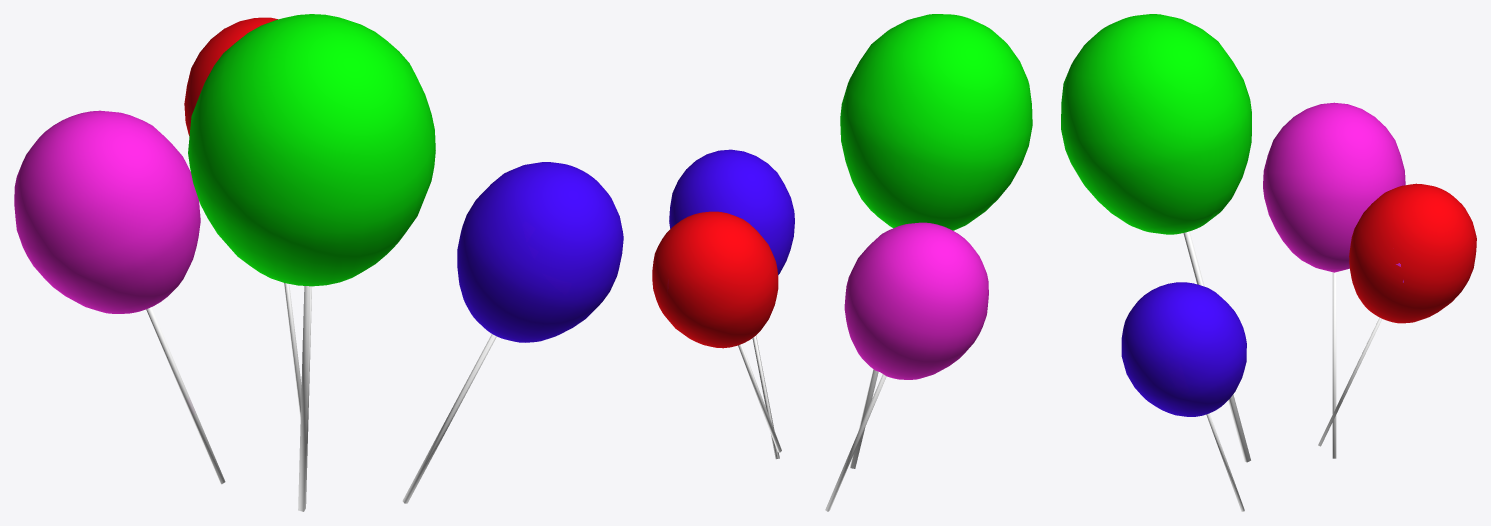
File: balloon.glb
3 renders of one model, left to right at view 1: azimuth 30°, elevation 25°; view 2: azimuth 150°, elevation 25°; view 3: azimuth 270°, elevation 25°, orthographic. The views are drawn at different scales.
Parts seen in each view (by area): view 1: Sphere; view 2: Sphere; view 3: Sphere.
Part boxes in pixels (left/top/right/bottom): Sphere: left=14, top=14, right=623, bottom=511; Sphere: left=652, top=14, right=1032, bottom=511; Sphere: left=1061, top=14, right=1476, bottom=511.
Bounding box in the file's own units: 1.68 × 1.83 × 1.6.
1 material, 1 textured.
